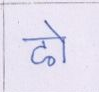o_matra: (50, 23, 70, 63)
